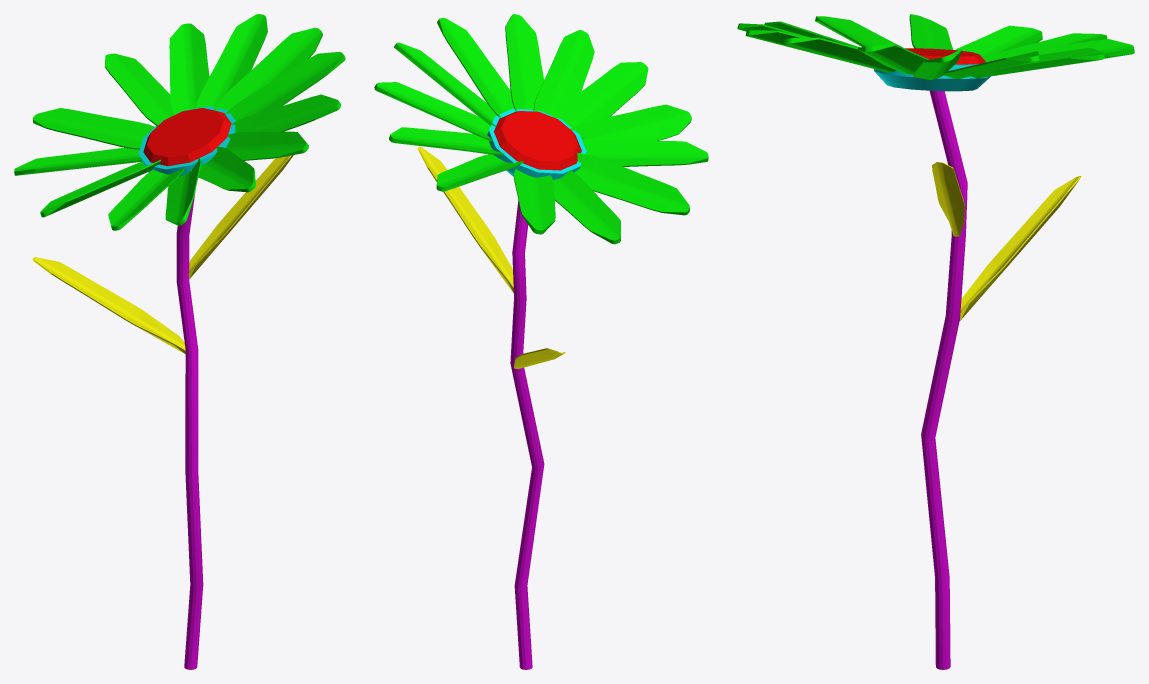
Rendered from flower.fbx.
The picture shows the model from 3 angles, left to right: view 1: azimuth 30°, elevation 25°; view 2: azimuth 150°, elevation 25°; view 3: azimuth 270°, elevation 25°; orthographic projection. The views are drawn at different scales.
Visible parts, largest first — view 1: flower; view 2: flower; view 3: flower.
Boxes of the visible parts, left/top/right/bottom form: flower: left=14, top=14, right=345, bottom=669; flower: left=374, top=14, right=708, bottom=669; flower: left=737, top=14, right=1134, bottom=669.
Size of the model in its own units: 5.39 by 10.8 by 5.67.
